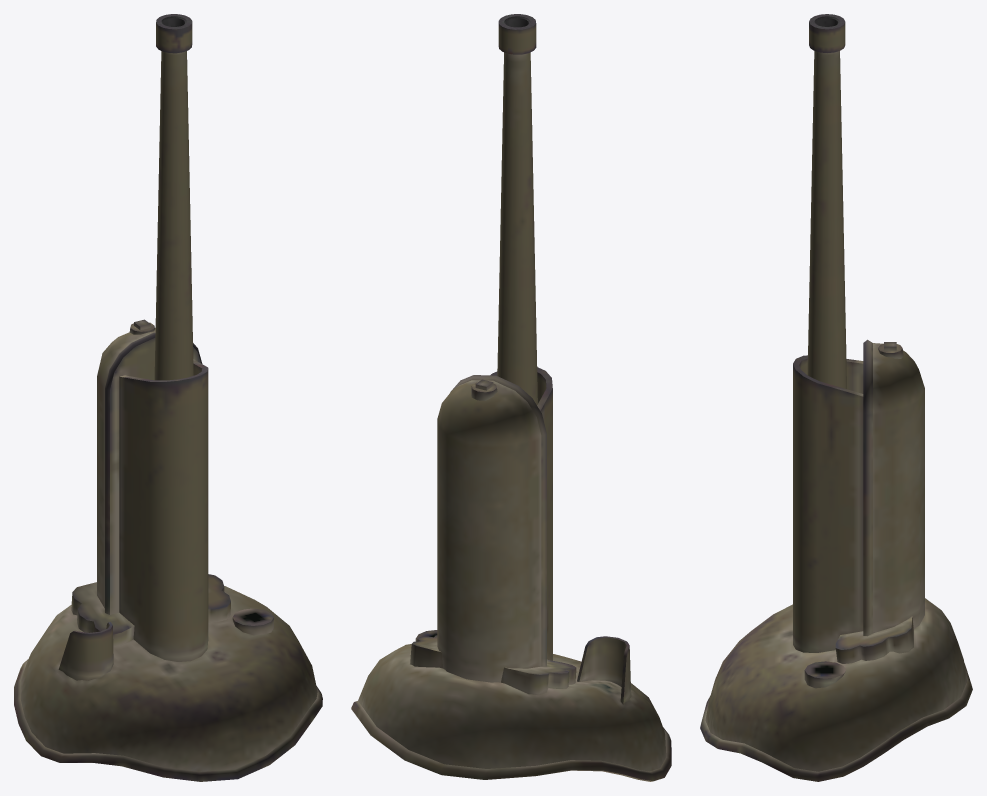
The model's file is Gun_01.glb.
The picture shows the model from 3 angles, left to right: view 1: azimuth 30°, elevation 25°; view 2: azimuth 150°, elevation 25°; view 3: azimuth 270°, elevation 25°; orthographic projection. The views are drawn at different scales.
Parts seen in each view (by area): view 1: set_0_group_0; view 2: set_0_group_0; view 3: set_0_group_0.
Part boxes in pixels (<box>): set_0_group_0: <box>14,14,322,781</box>; set_0_group_0: <box>351,14,671,781</box>; set_0_group_0: <box>700,14,972,781</box>.
Size of the model in its own units: 0.5328 by 1.3 by 0.4533.
1 material, 1 textured.
